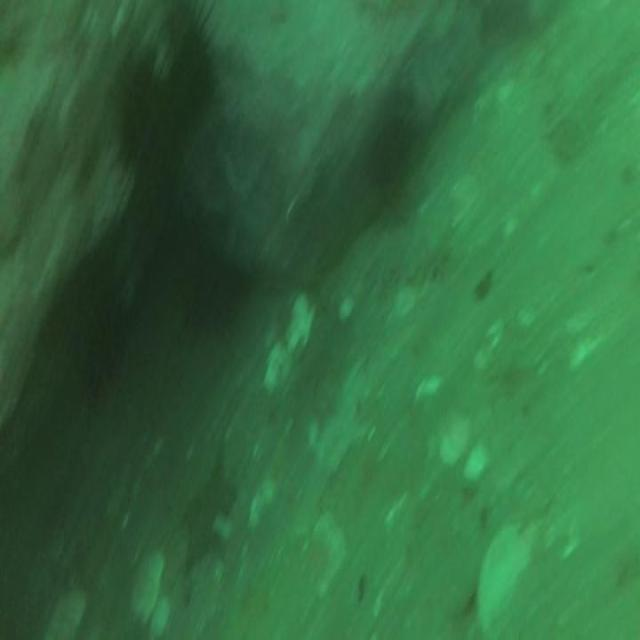echinus: (118, 65, 172, 167), (76, 300, 129, 403), (187, 251, 247, 338), (168, 27, 212, 122), (375, 116, 414, 176)
starfish: (183, 447, 237, 566)
